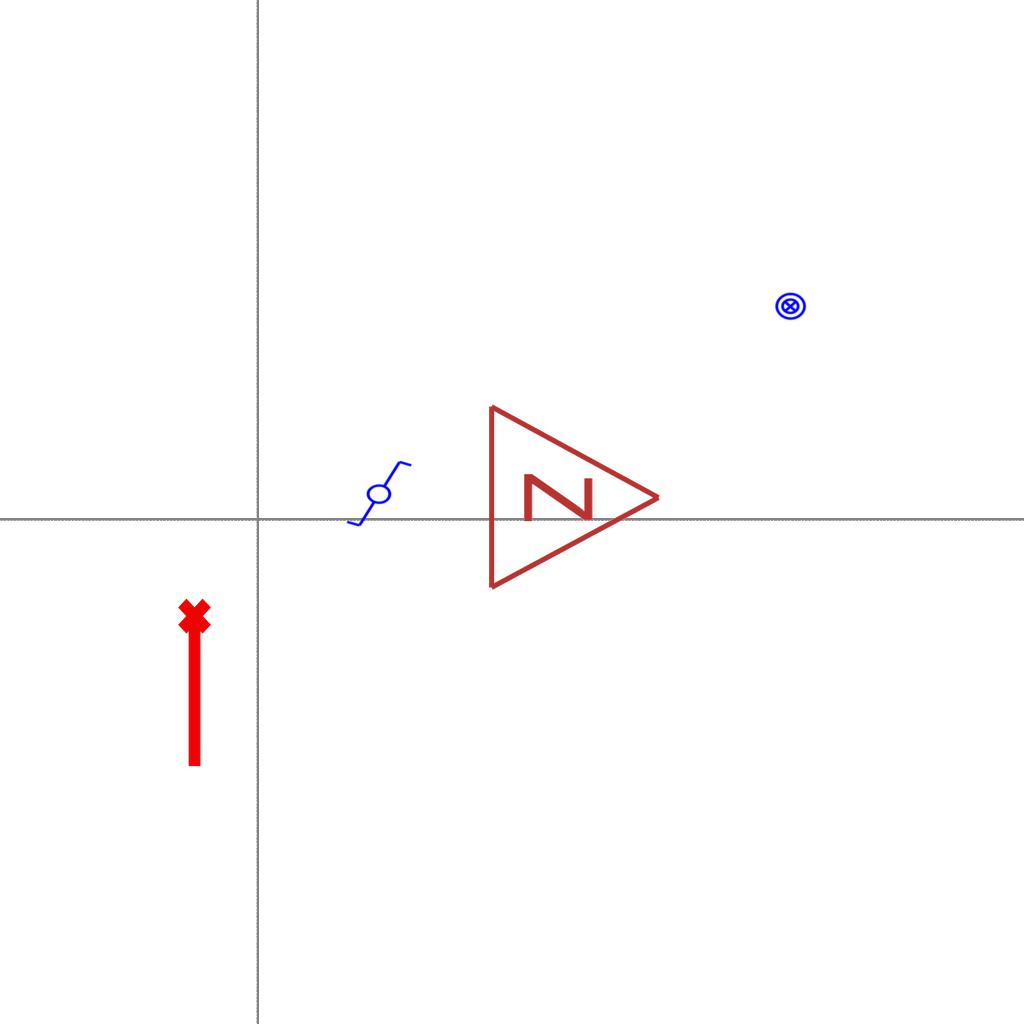ASR_Ansaugoeffnung: (174, 596, 220, 772)
Taster_beleuchtet: (774, 290, 807, 323)
Wechselschalter: (336, 457, 414, 529)
Zimmersignalleuchte: (474, 397, 674, 593)
